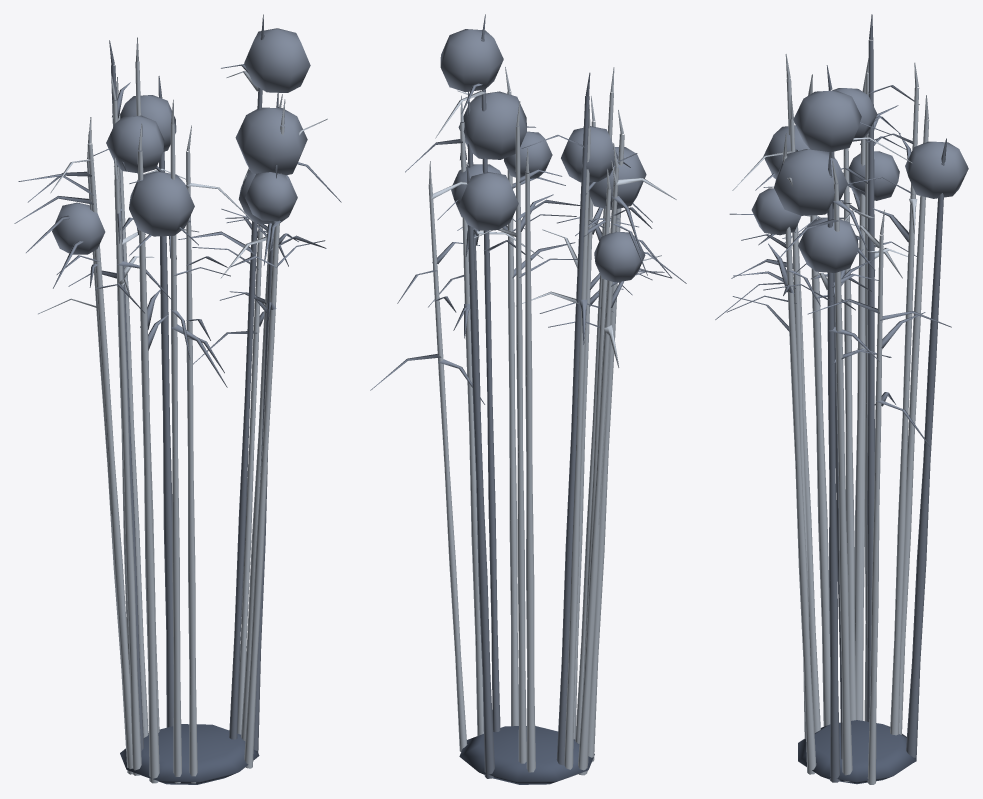
Rendered from 竹丛-lite.glb.
3 views of the same model, side by side, from view 1: azimuth 30°, elevation 25°; view 2: azimuth 150°, elevation 25°; view 3: azimuth 270°, elevation 25° (orthographic). The views are drawn at different scales.
Parts seen in each view (by area): view 1: garden-bamboo-light, garden-bamboo-leaf, garden-bamboo-old, garden-bamboo-soil; view 2: garden-bamboo-light, garden-bamboo-leaf, garden-bamboo-old, garden-bamboo-soil; view 3: garden-bamboo-light, garden-bamboo-leaf, garden-bamboo-old, garden-bamboo-soil.
Part boxes in pixels (x1,y1,x2,y2): garden-bamboo-light: [38, 37, 327, 783]; garden-bamboo-leaf: [14, 28, 341, 387]; garden-bamboo-old: [109, 14, 278, 752]; garden-bamboo-soil: [120, 724, 259, 784]; garden-bamboo-light: [428, 67, 676, 777]; garden-bamboo-leaf: [370, 29, 686, 404]; garden-bamboo-old: [466, 14, 590, 778]; garden-bamboo-soil: [459, 726, 594, 784]; garden-bamboo-light: [732, 54, 929, 784]; garden-bamboo-leaf: [715, 85, 968, 447]; garden-bamboo-old: [826, 14, 946, 782]; garden-bamboo-soil: [798, 720, 915, 784].
Size of the model in its own units: 1.05 by 2.7 by 0.85.
